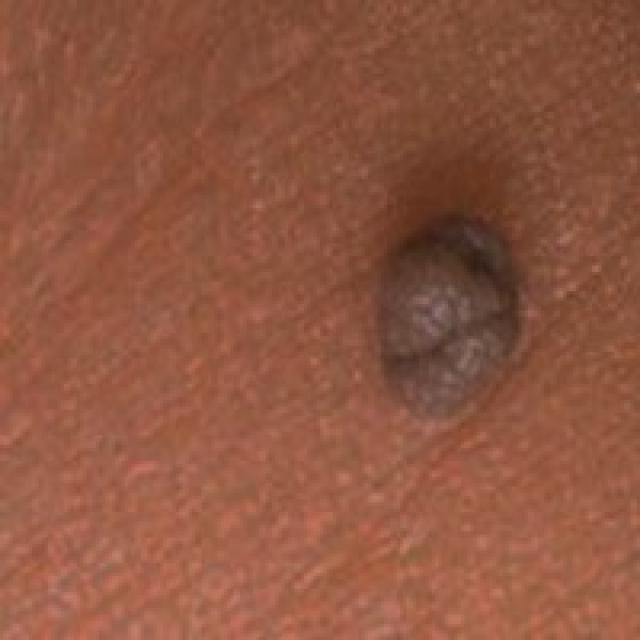wart: (371, 205, 522, 422)
